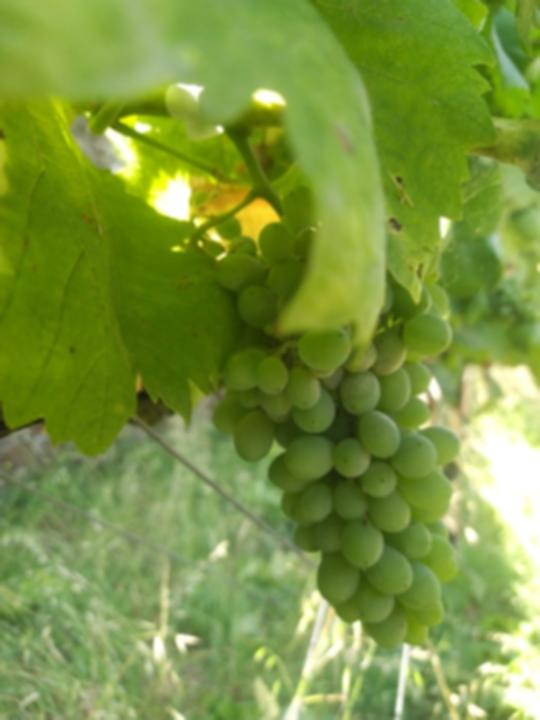grape: (212, 186, 471, 652)
